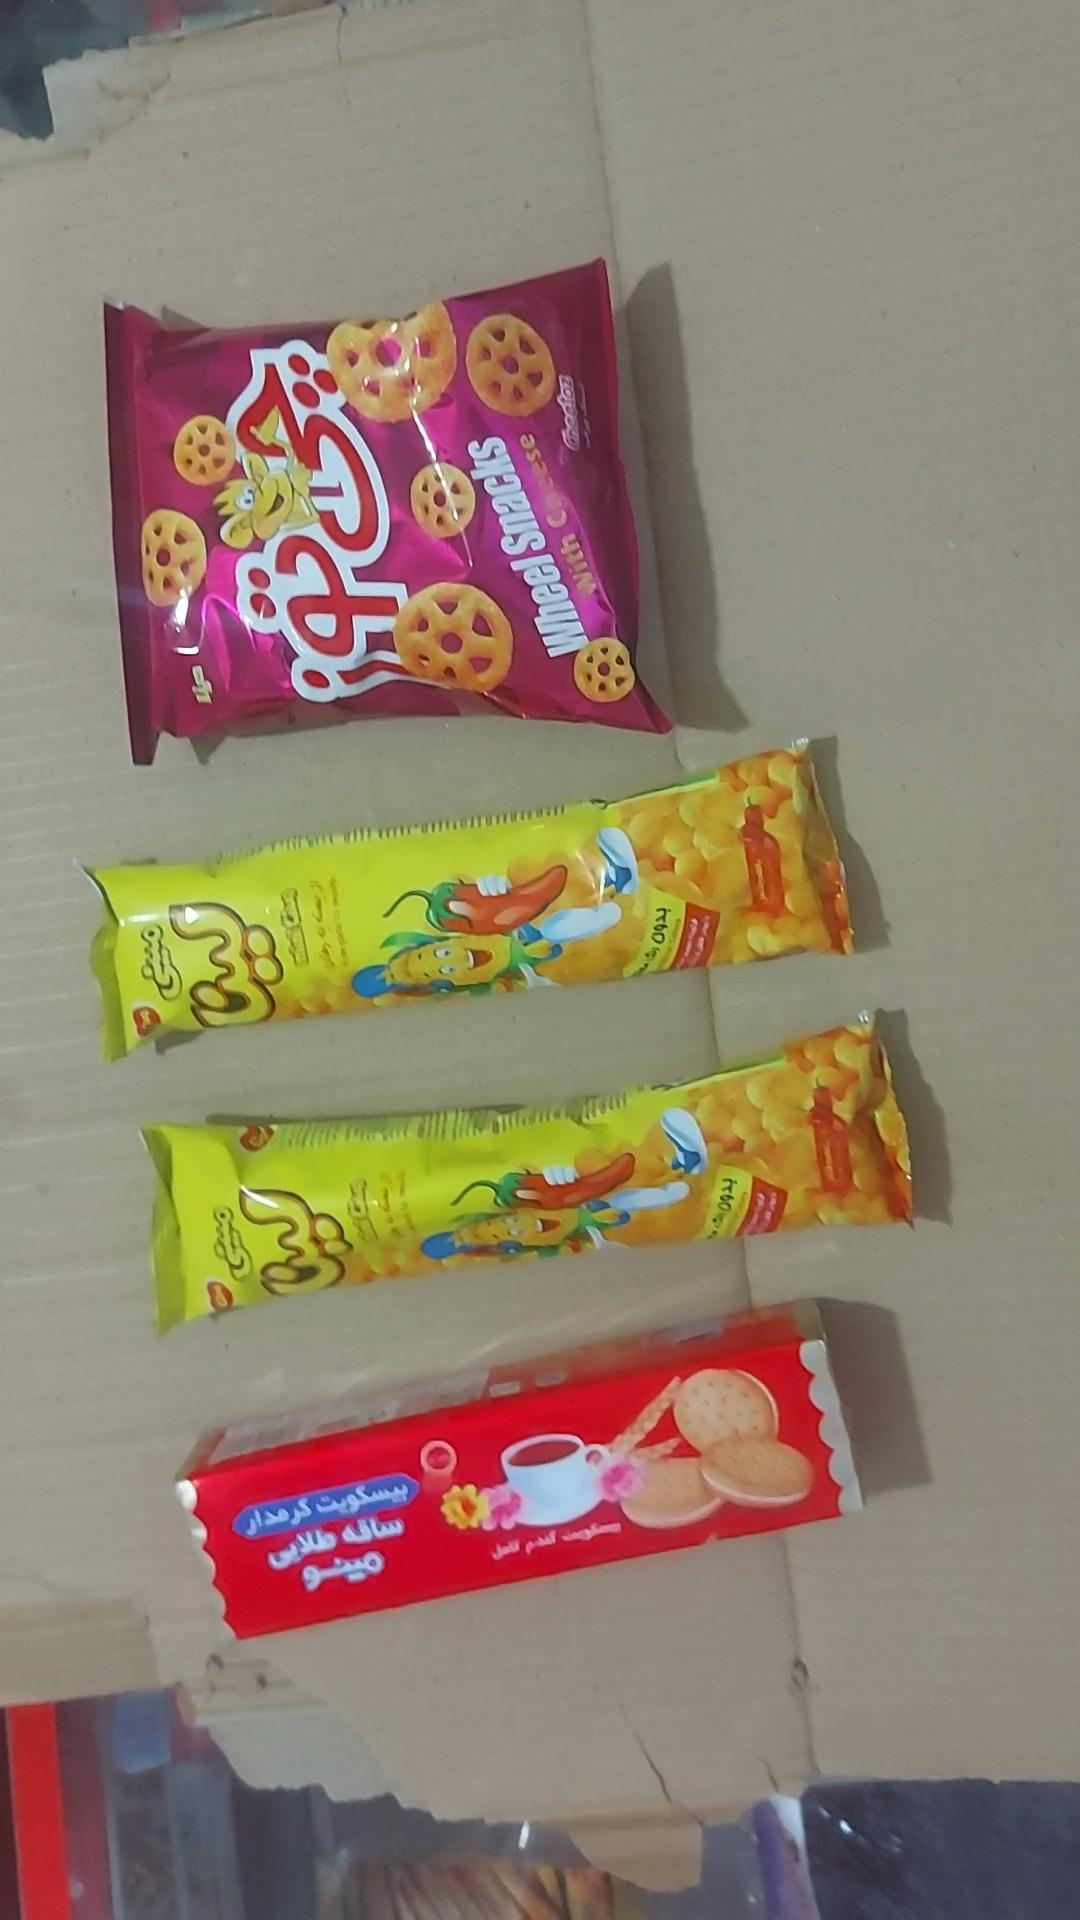Cheetoz wheelsnack: (107, 261, 667, 762)
Mini Lina: (141, 1021, 913, 1331), (86, 746, 853, 1058)
Minoo cream biscuit: (177, 1304, 862, 1639)
